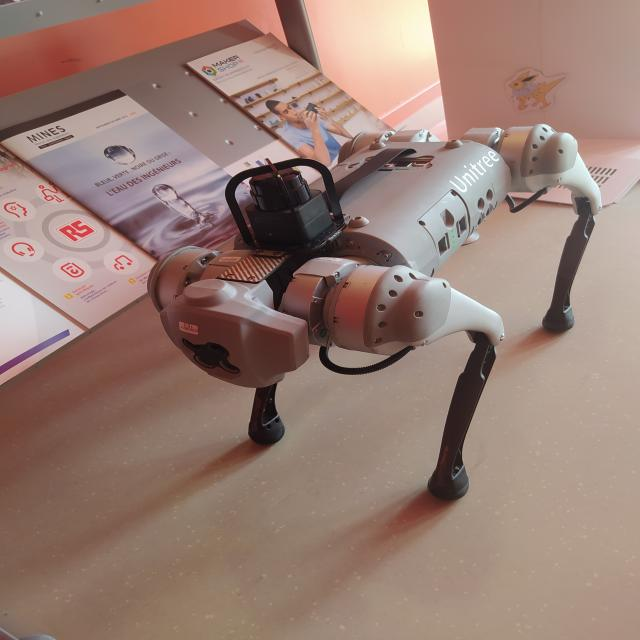unitree-go1-robot: (144, 126, 603, 508)
